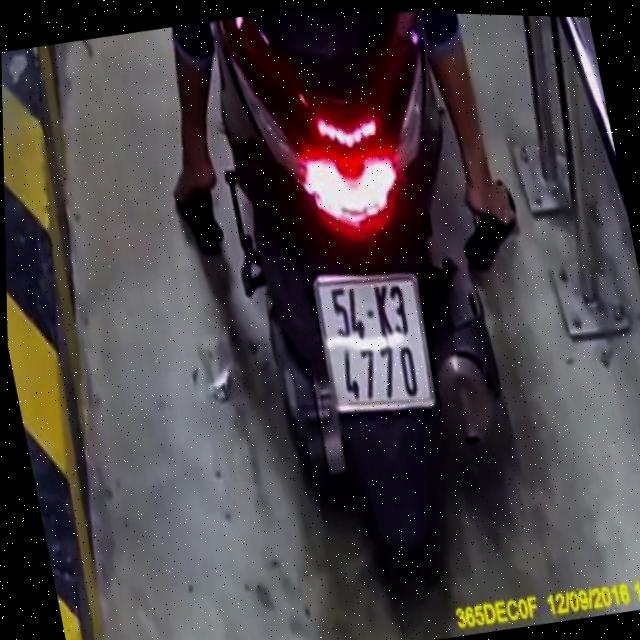motorcycle: (191, 6, 562, 620)
plate: (302, 253, 445, 426)
